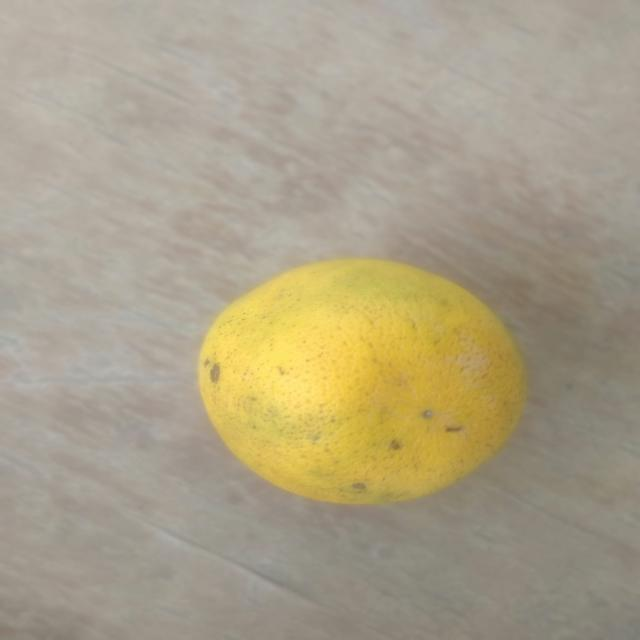Ripe orange: (199, 253, 528, 506)
